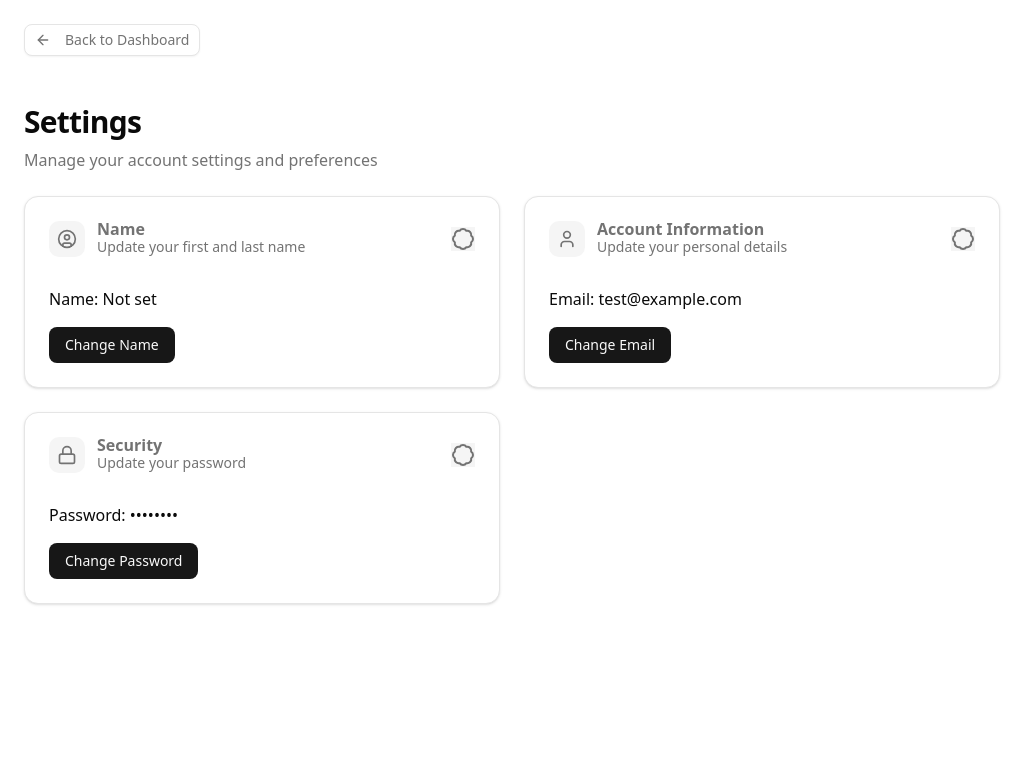
it: Settings Page - Email Update Functionality › shows validation error when trying to update with empty fields
The image size is (1024, 768).
Click the button "Change Email": (610, 345) [549, 327, 671, 363]
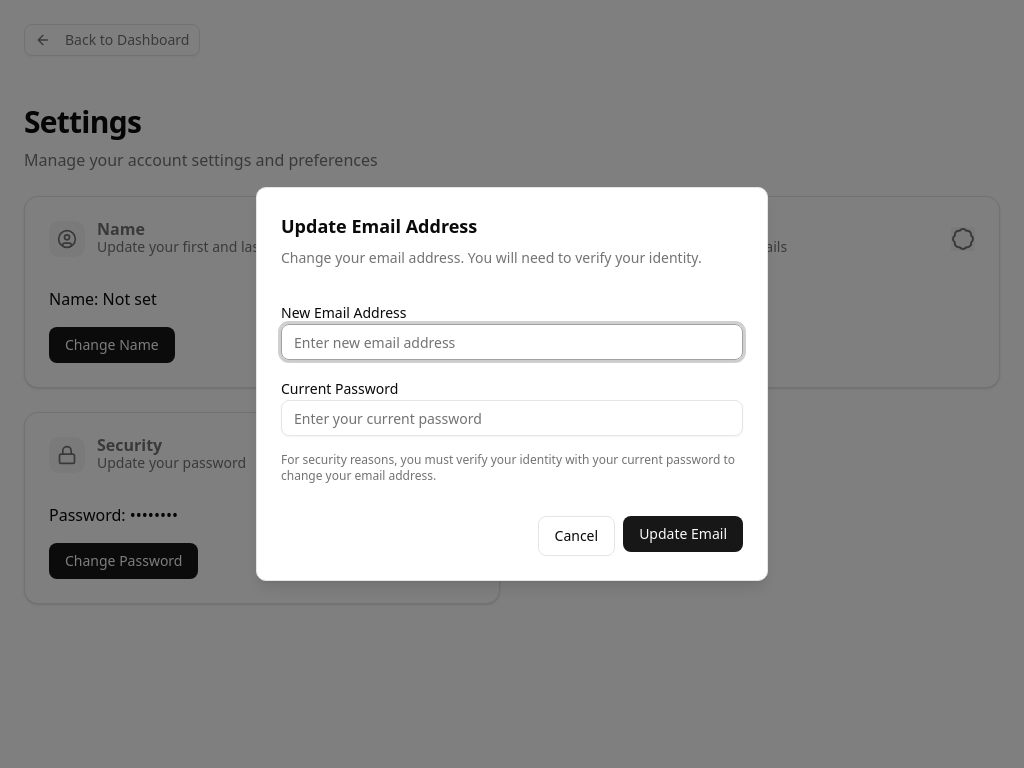
Click the button "Update Email": (683, 534) [623, 516, 743, 552]
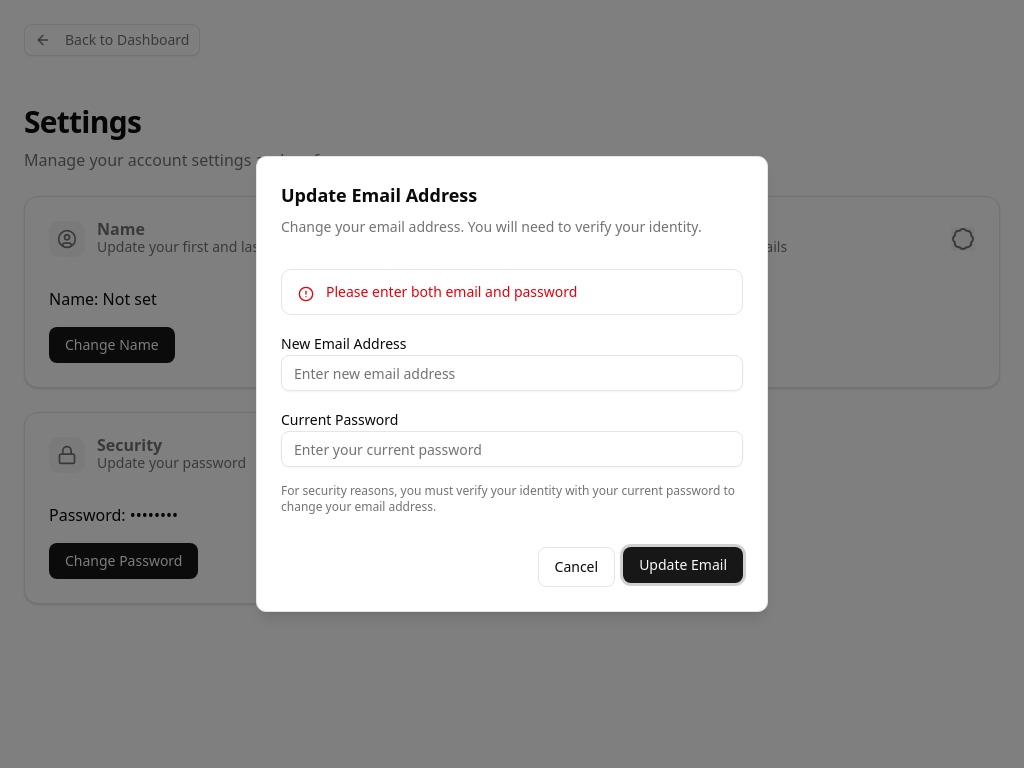
Check: the text "Please enter both email and password" is shown, box [326, 282, 577, 302]
